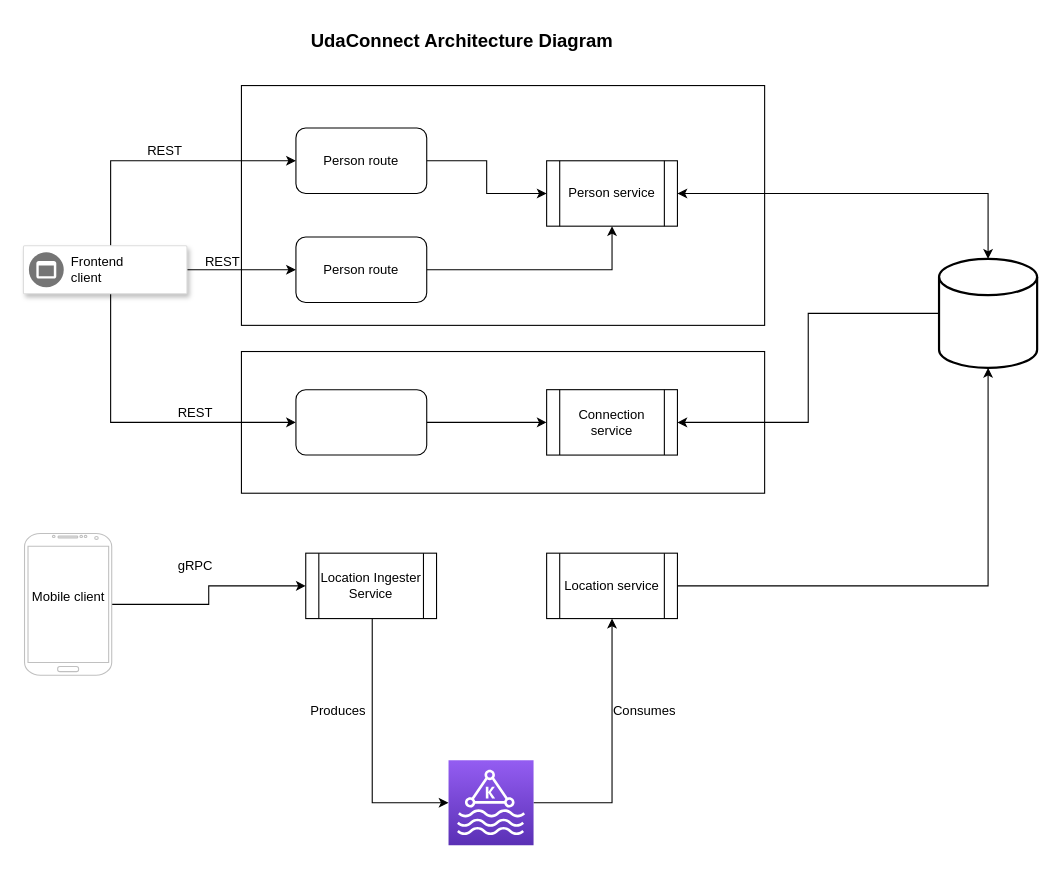
This 1057x886 diagram has some shape labels left out. Here are the shapes that lost their labels. From the top down, the centre of each, then its label:
the point at 987,312: Database
the point at 361,422: Connection route
the point at 490,802: Kafka
